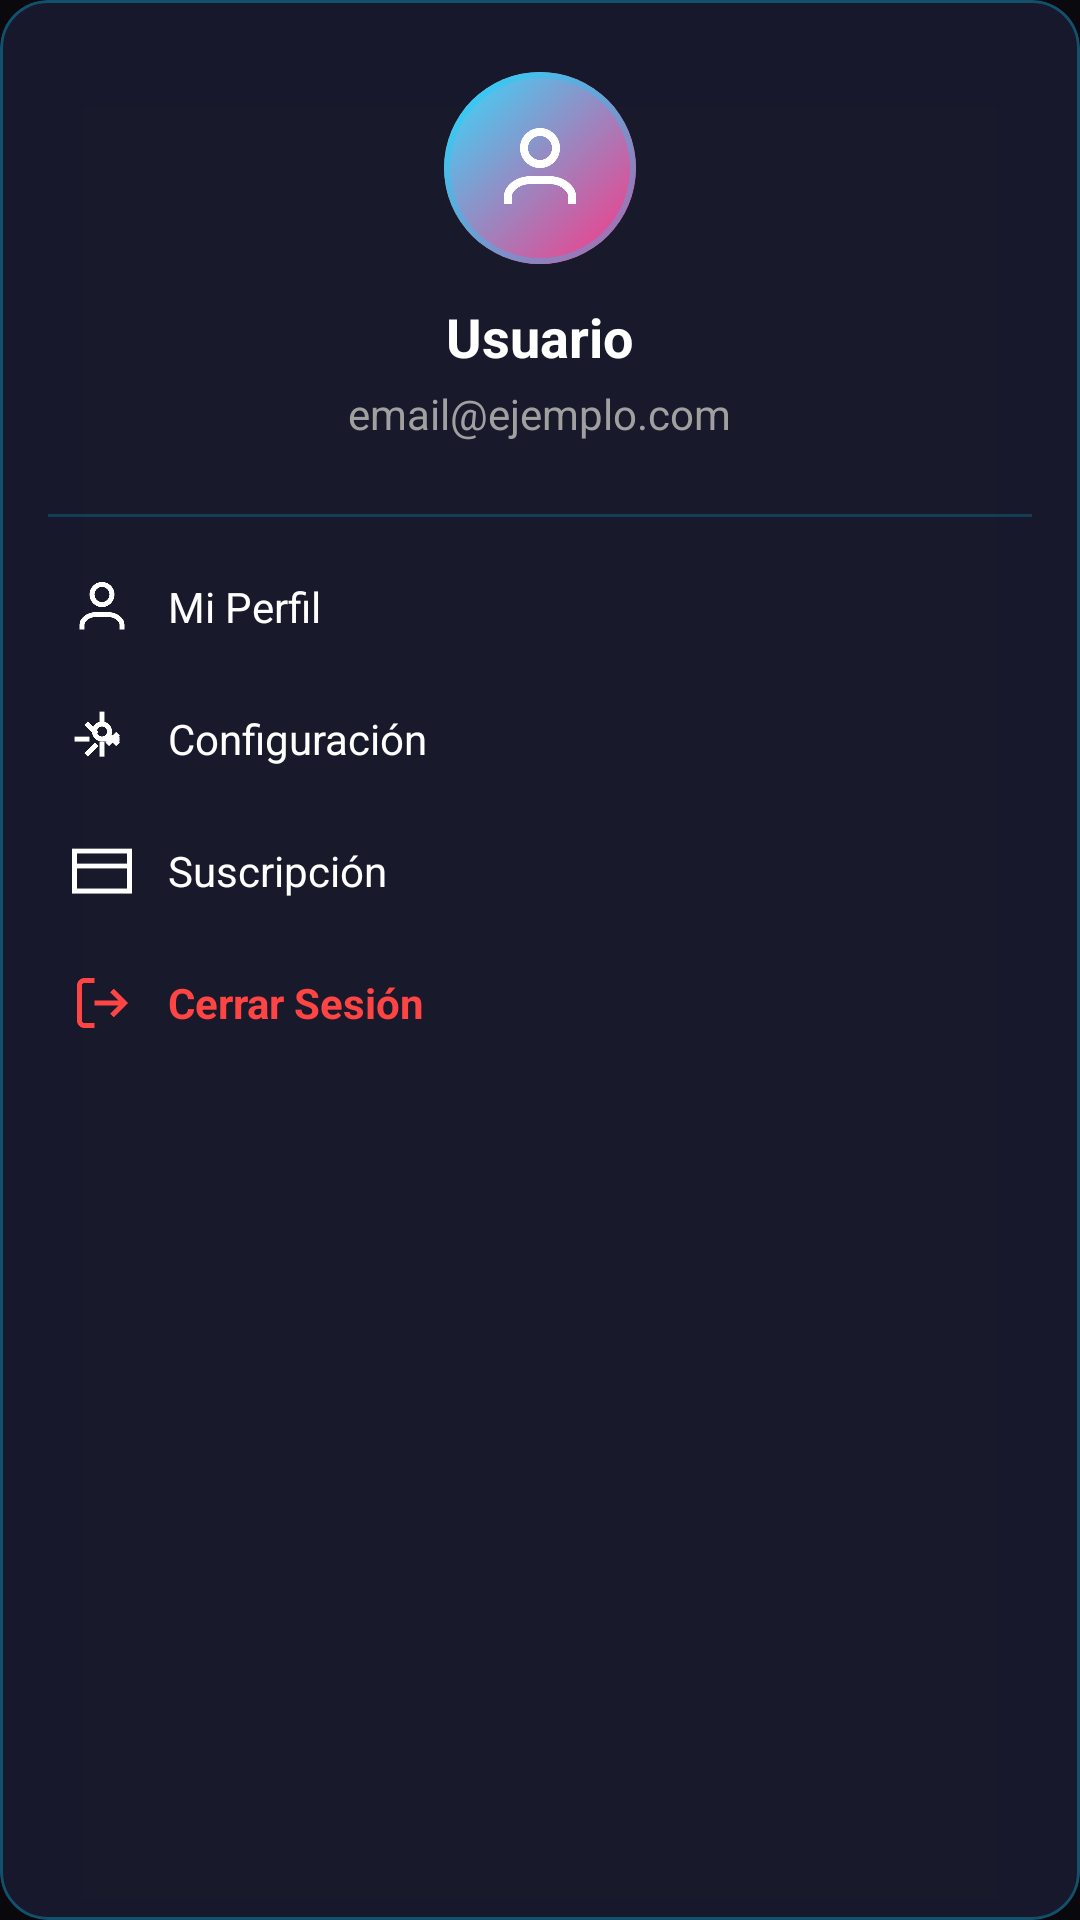

Icon click points for this 1080px x 1920px phone screenshot, format (x=x, y=y):
Avatar: (x=540, y=168)
profile: (x=102, y=606)
subscription: (x=102, y=871)
